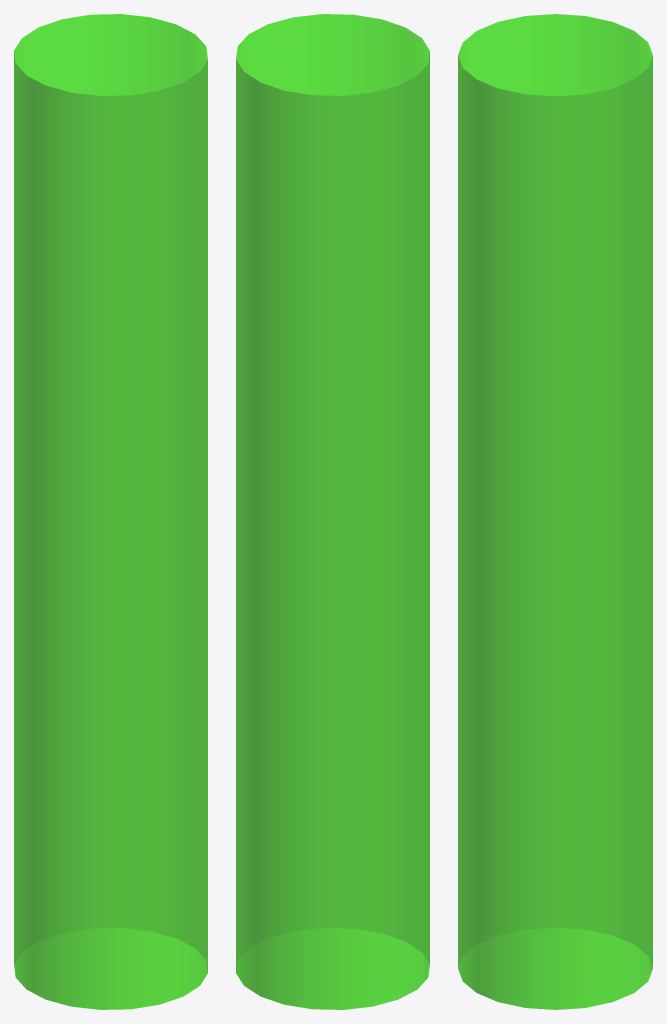
File: Cylinder Fill.fbx
The picture shows the model from 3 angles, left to right: view 1: azimuth 30°, elevation 25°; view 2: azimuth 150°, elevation 25°; view 3: azimuth 270°, elevation 25°; orthographic projection.
Parts seen in each view (by area): view 1: pCylinder11; view 2: pCylinder11; view 3: pCylinder11.
Boxes of the visible parts, bbox=[...] form: pCylinder11: bbox=[14, 14, 207, 1009]; pCylinder11: bbox=[236, 14, 429, 1009]; pCylinder11: bbox=[458, 14, 652, 1009].
Bounding box in the file's own units: 2.9 × 15 × 2.9.
